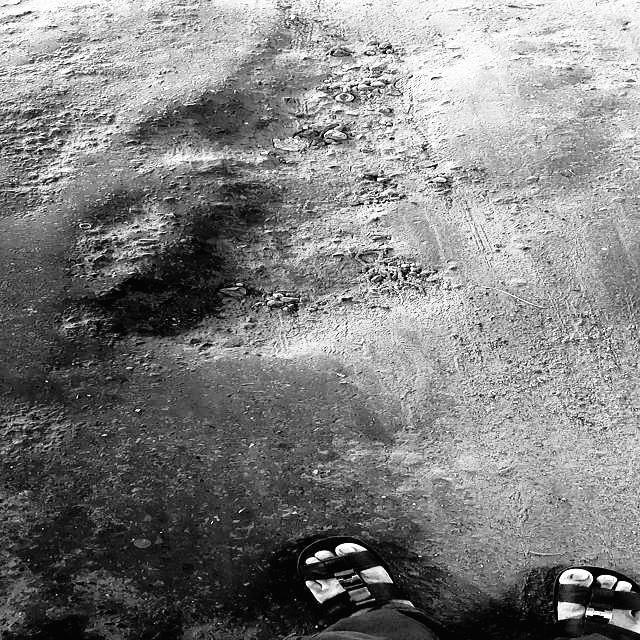Pothole: (92, 223, 363, 351), (149, 51, 370, 176)
